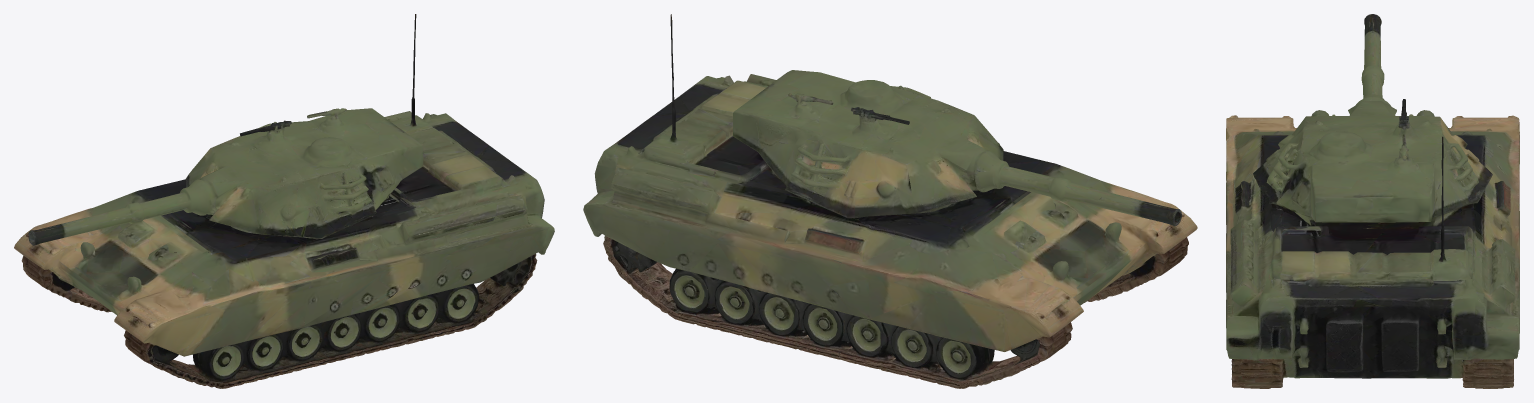
Rendered from tank.glb.
The picture shows the model from 3 angles, left to right: view 1: azimuth 30°, elevation 25°; view 2: azimuth 150°, elevation 25°; view 3: azimuth 270°, elevation 25°; orthographic projection. The views are drawn at different scales.
Size of the model in its own units: 4.88 by 2.4 by 2.37.
Materials: 1 (1 with a texture image).
